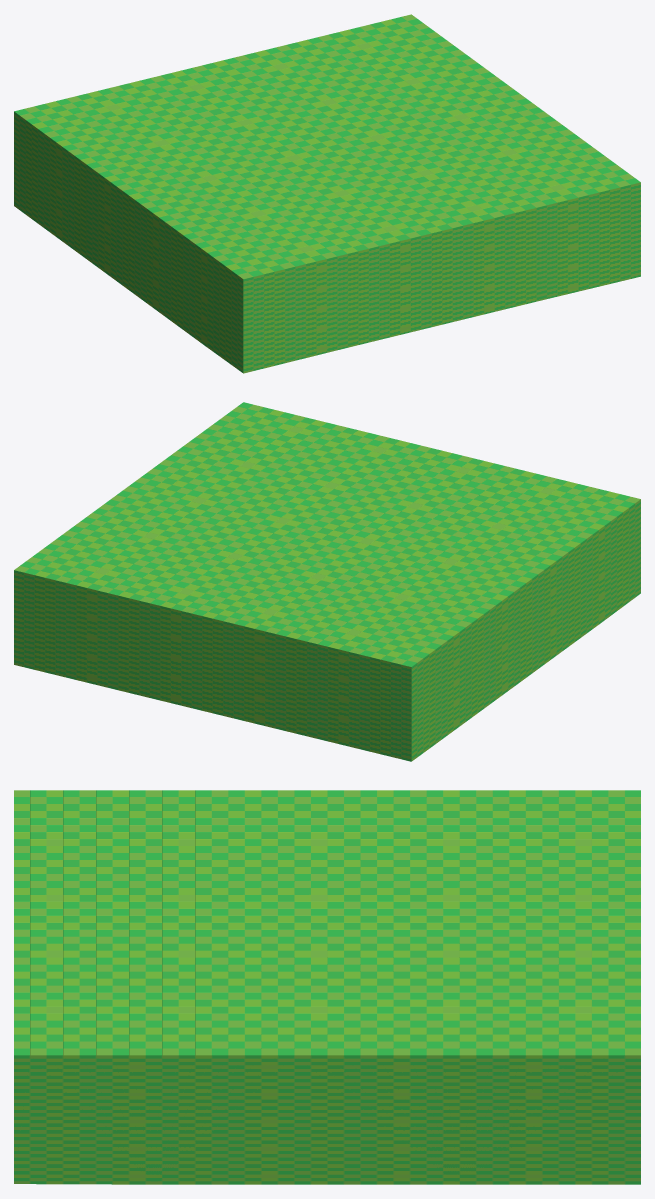
Rendered from Round_Box_02.FBX.
3 views of the same model, one above another, from view 1: azimuth 30°, elevation 25°; view 2: azimuth 150°, elevation 25°; view 3: azimuth 270°, elevation 25° (orthographic). The views are drawn at different scales.
Parts seen in each view (by area): view 1: Round_Box_02; view 2: Round_Box_02; view 3: Round_Box_02.
Boxes of the visible parts, bbox=[...] form: Round_Box_02: bbox=[14, 14, 640, 373]; Round_Box_02: bbox=[14, 402, 640, 761]; Round_Box_02: bbox=[14, 790, 640, 1184].
Size of the model in its own units: 5000 by 1139 by 5000.
